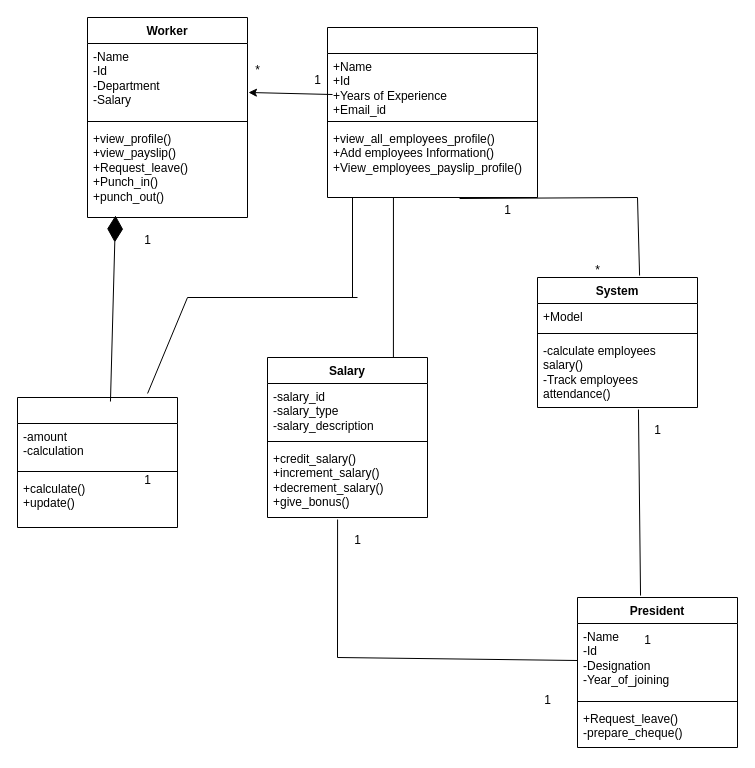
Some shapes in this 755 by 768 pixel diagram are drawn without their labels. The shapes that lost their labels are listed below. From the top down, each one's box as (x1, y1, x2, y2) in pixels, then its label:
(326, 26, 538, 198): Executive_secretary
(16, 396, 178, 528): Taxes
